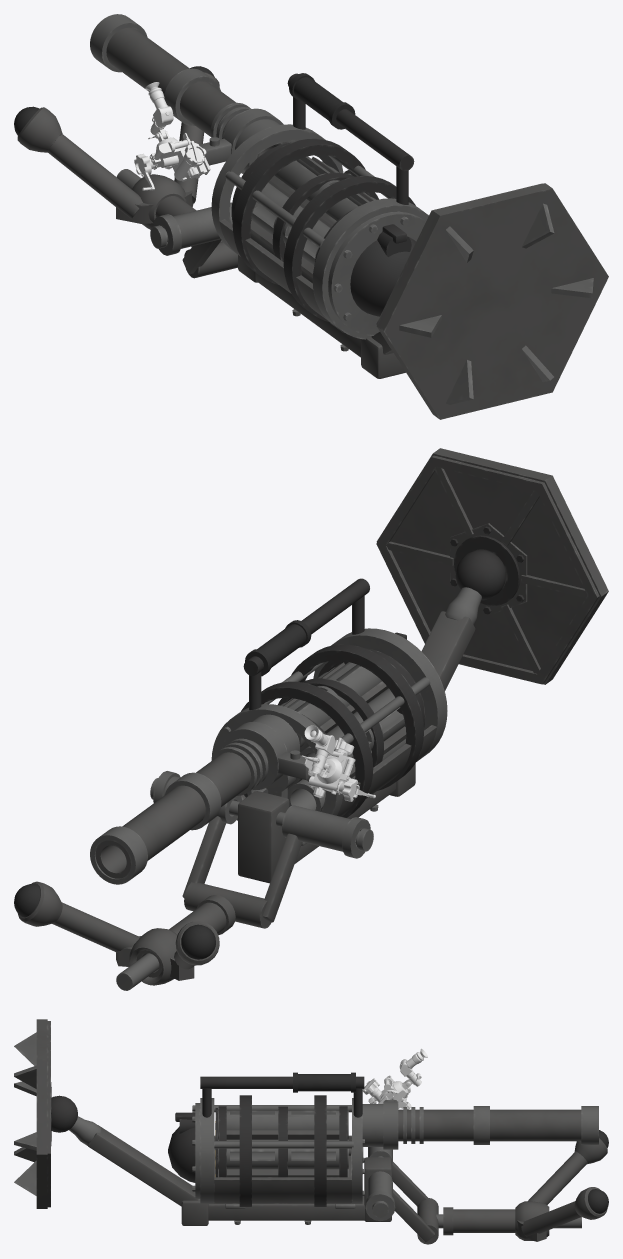
The model's file is Mortar50_Packed.fbx.
3 views of the same model, one above another, from view 1: azimuth 30°, elevation 25°; view 2: azimuth 150°, elevation 25°; view 3: azimuth 270°, elevation 25° (orthographic). The views are drawn at different scales.
Parts seen in each view (by area): view 1: Mortar50_Packed_LOD0; view 2: Mortar50_Packed_LOD0; view 3: Mortar50_Packed_LOD0.
Part boxes in pixels (box(x1,y1,x2,y2)): Mortar50_Packed_LOD0: box(14, 14, 608, 419); Mortar50_Packed_LOD0: box(14, 448, 608, 990); Mortar50_Packed_LOD0: box(14, 1019, 608, 1244).
Size of what is drawn, in the model's own units: 46.82 by 53.22 by 144.
